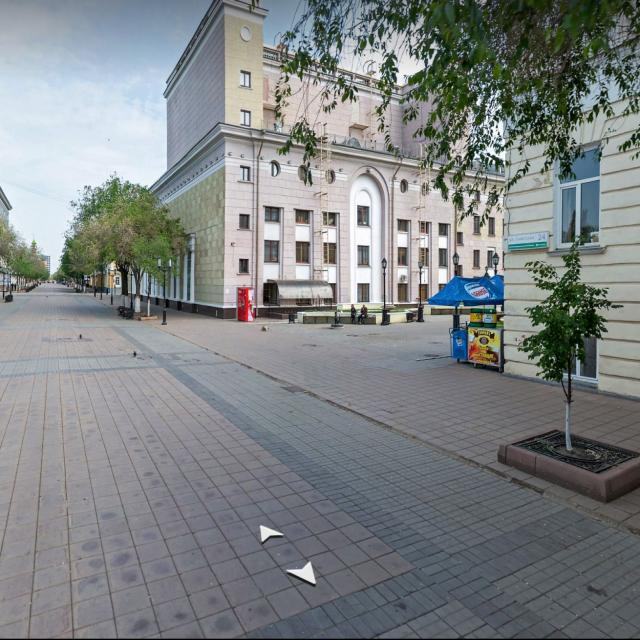market: (429, 268, 503, 369)
